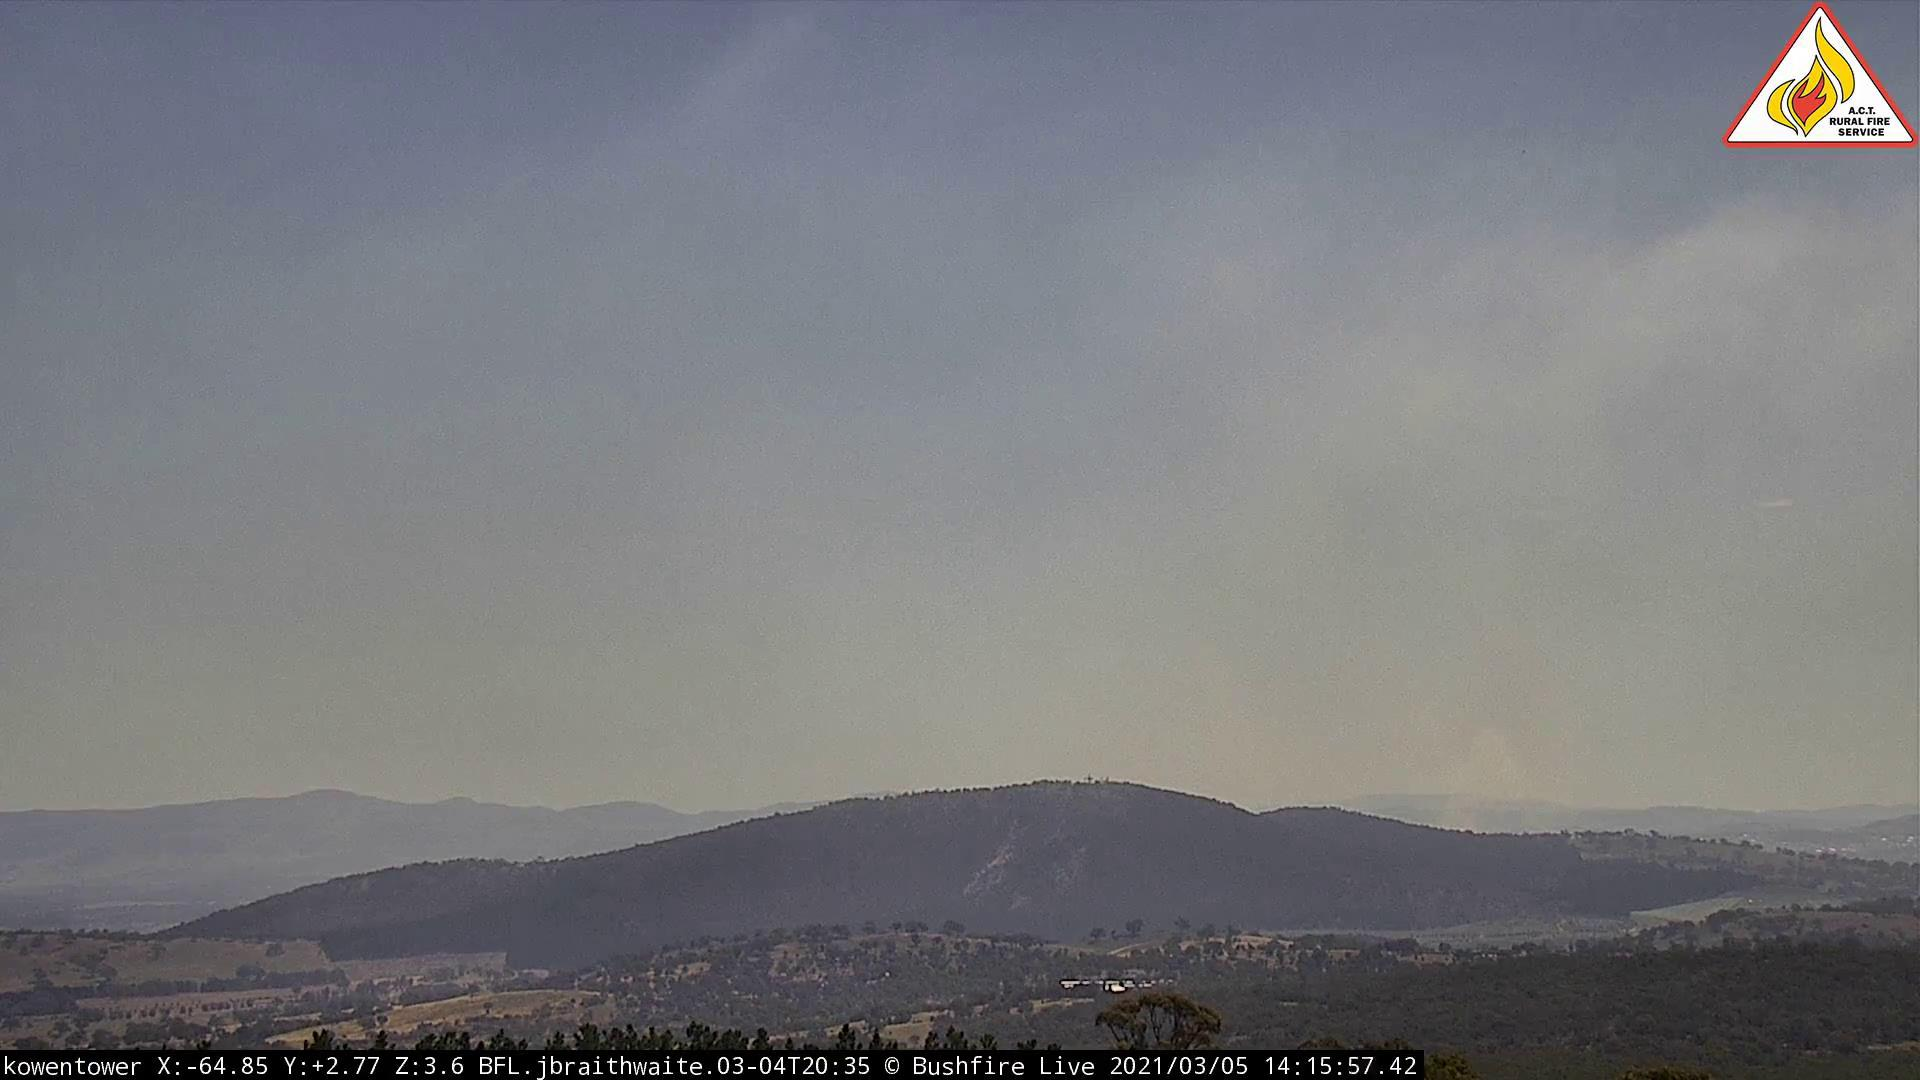Smoke: (1221, 512, 1795, 841)
